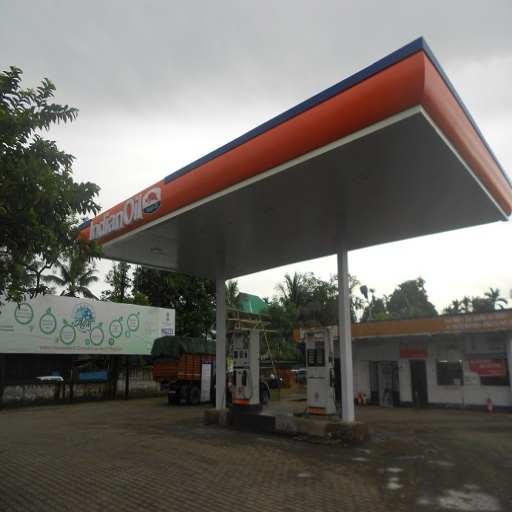roof: (72, 39, 508, 284)
